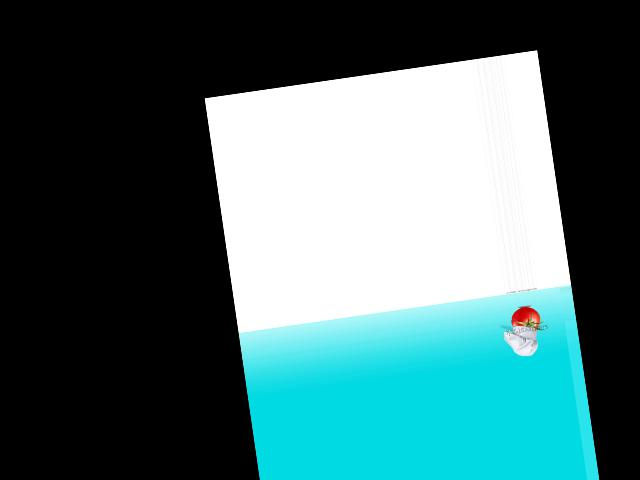tomato: (509, 306, 540, 333)
